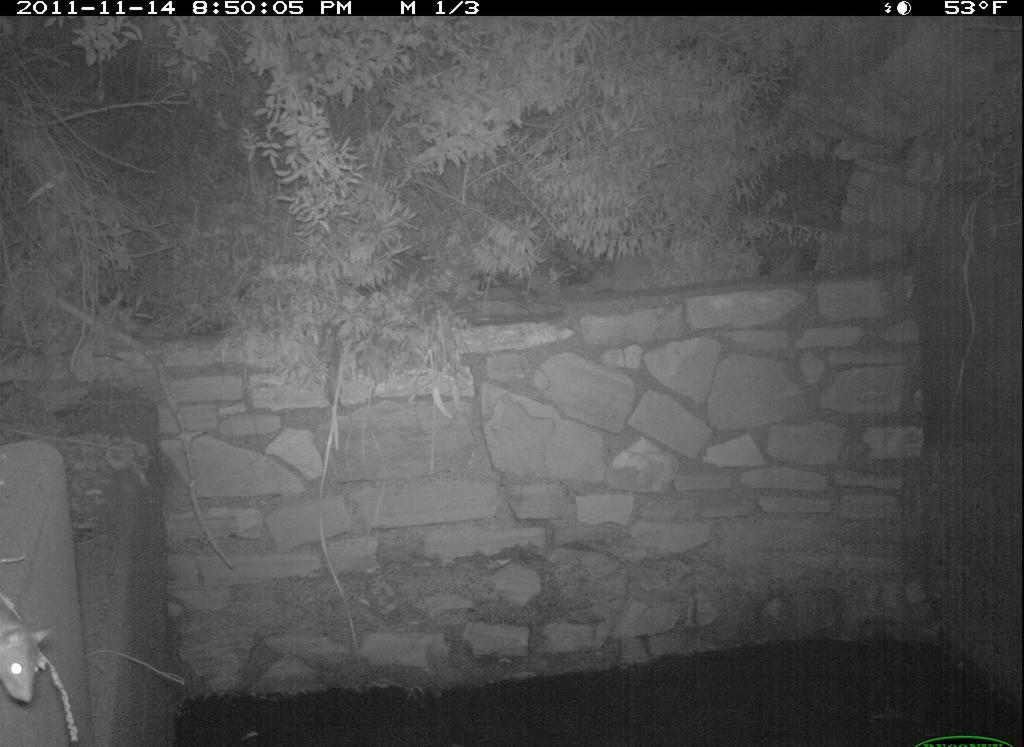rodent: (4, 589, 54, 707)
